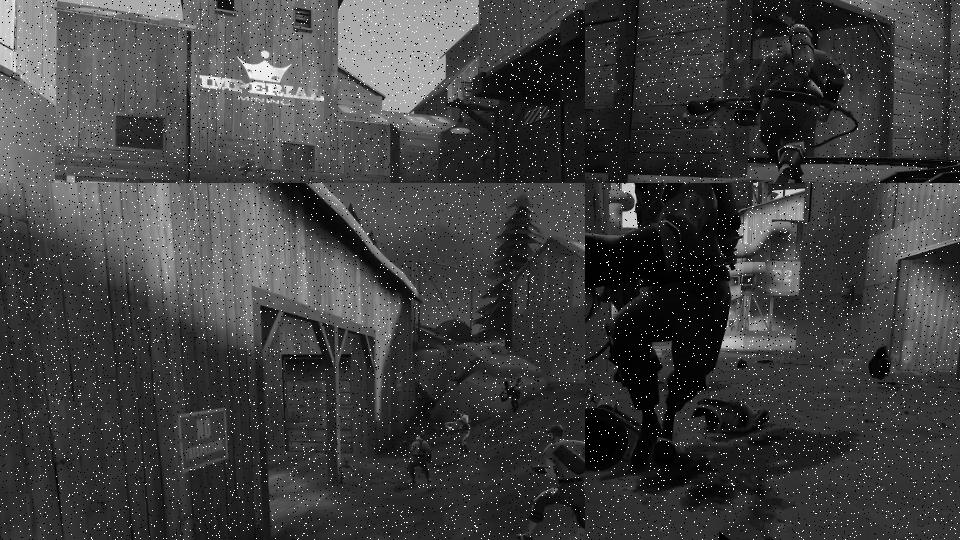Enemy: (585, 183, 744, 474), (677, 19, 858, 183), (515, 423, 585, 540), (402, 432, 437, 485), (444, 412, 472, 457), (500, 377, 526, 413)
